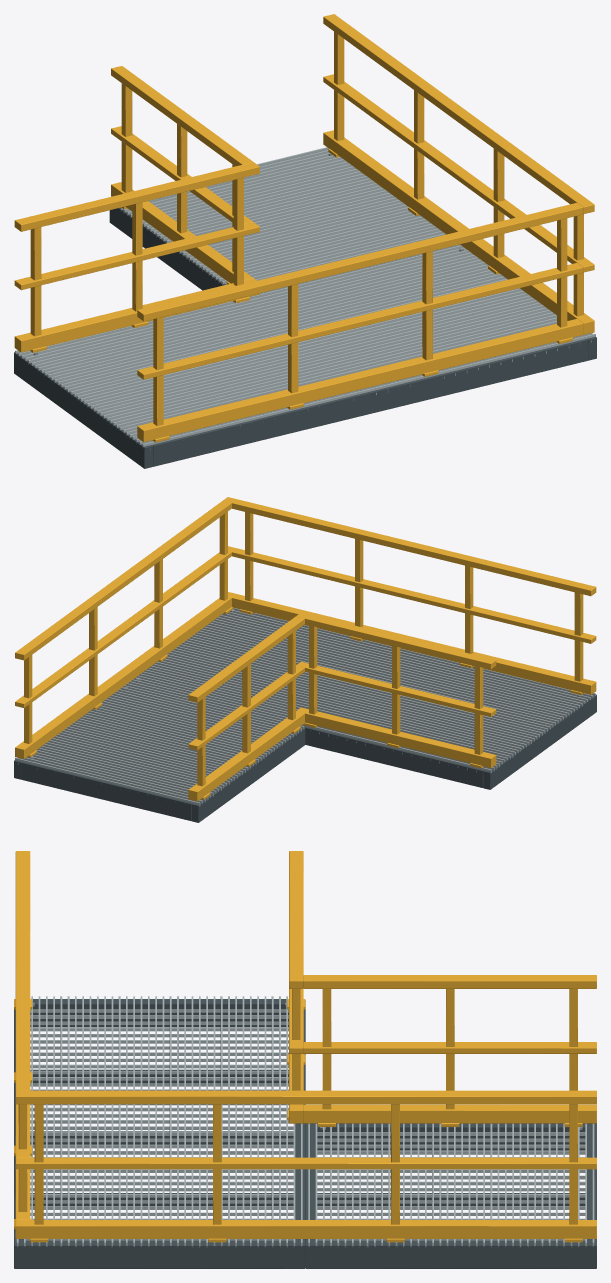
The picture shows the model from 3 angles, top to bottom: view 1: azimuth 30°, elevation 25°; view 2: azimuth 150°, elevation 25°; view 3: azimuth 270°, elevation 25°; orthographic projection. The views are drawn at different scales.
Visible parts, largest first — view 1: SM_NPP_Catwalk_Corner90_A; view 2: SM_NPP_Catwalk_Corner90_A; view 3: SM_NPP_Catwalk_Corner90_A.
Boxes of the visible parts, <box> form: SM_NPP_Catwalk_Corner90_A: <box>14,14,596,468</box>; SM_NPP_Catwalk_Corner90_A: <box>14,497,596,822</box>; SM_NPP_Catwalk_Corner90_A: <box>14,851,596,1268</box>.
Bounding box in the file's own units: 4 × 1.3 × 4.
